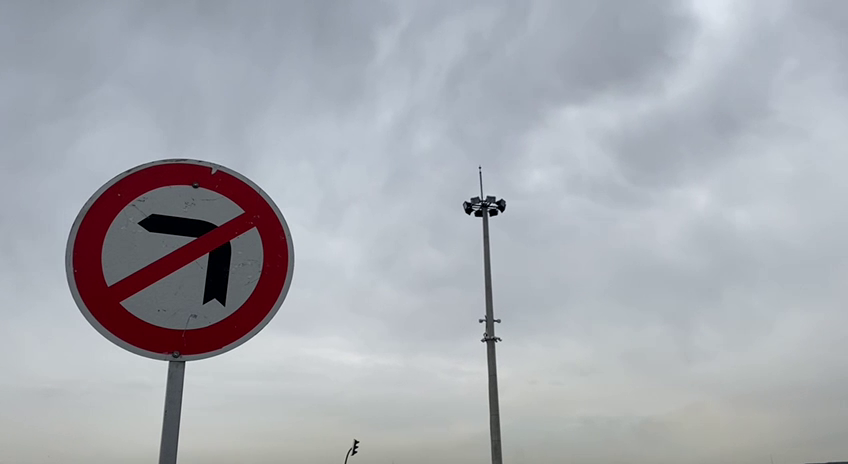noTurnLeft: (61, 150, 302, 373)
